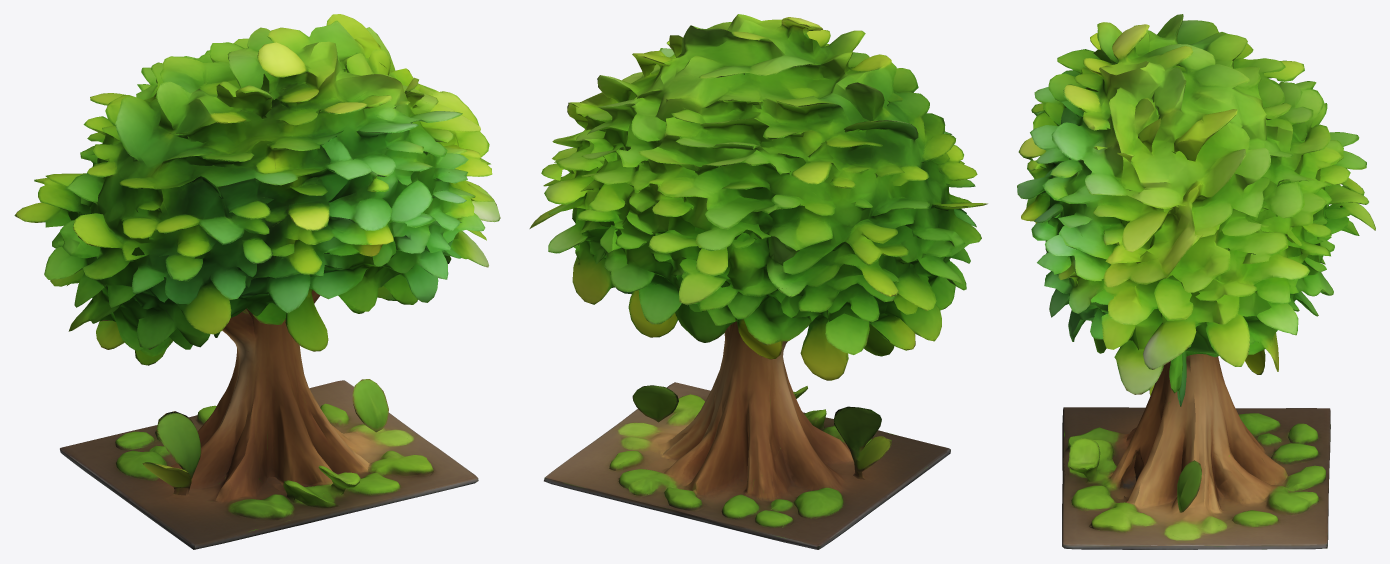
File: pohon_besar.glb
3 renders of one model, left to right at view 1: azimuth 30°, elevation 25°; view 2: azimuth 150°, elevation 25°; view 3: azimuth 270°, elevation 25°, orthographic. The views are drawn at different scales.
Visible parts, largest first — view 1: world_0; view 2: world_0; view 3: world_0.
Part boxes in pixels (x1,y1,x2,y2): world_0: (14, 14, 500, 549); world_0: (529, 14, 987, 549); world_0: (1017, 14, 1375, 549).
Bounding box in the file's own units: 0.9879 × 0.9756 × 0.715.
1 material, 1 textured.
